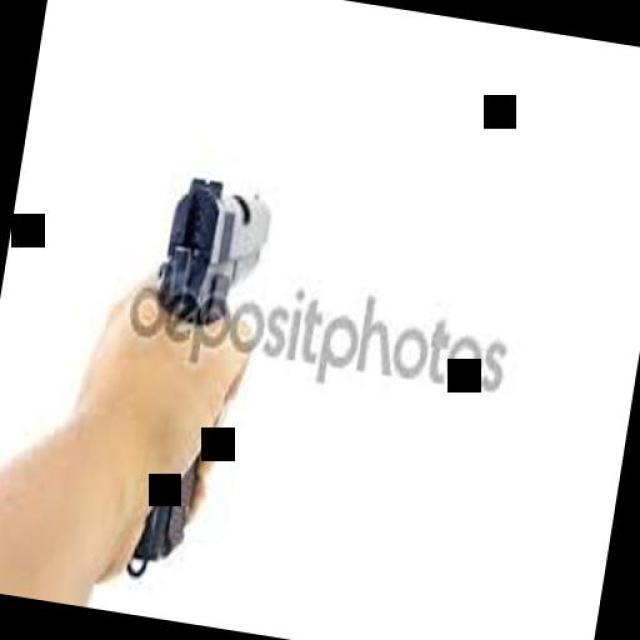gun: (110, 170, 280, 591)
